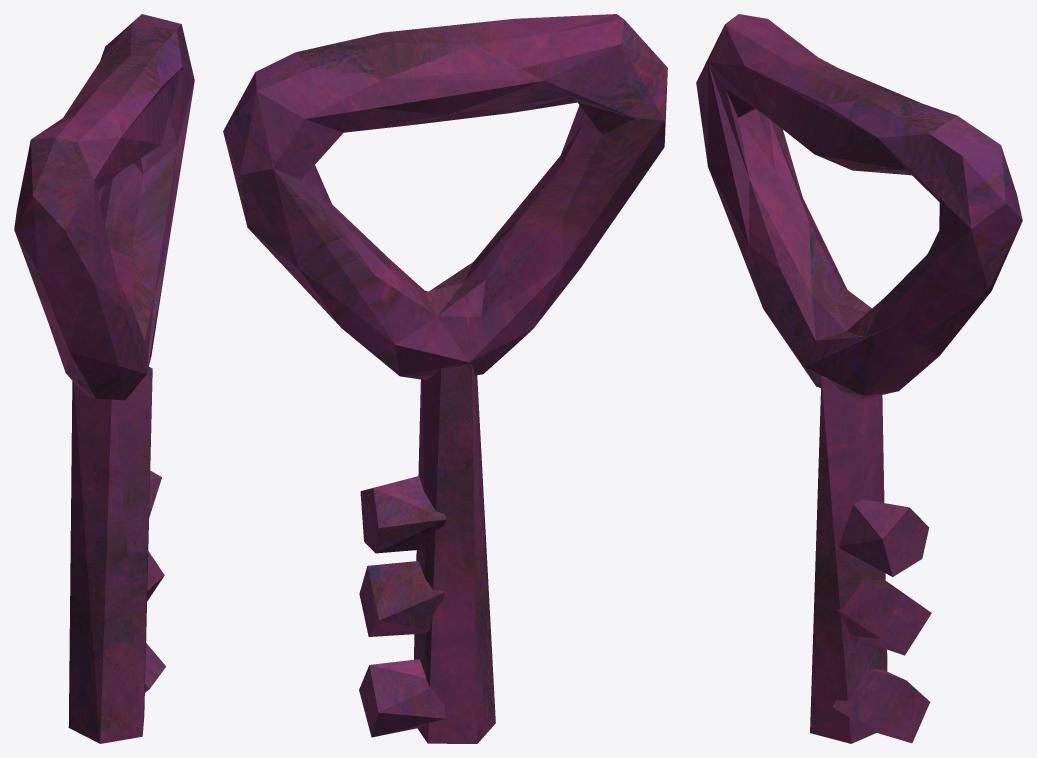
File: key3.glb
3 renders of one model, left to right at view 1: azimuth 30°, elevation 25°; view 2: azimuth 150°, elevation 25°; view 3: azimuth 270°, elevation 25°, orthographic. The views are drawn at different scales.
Visible parts, largest first — view 1: Key; view 2: Key; view 3: Key.
Part boxes in pixels (<box>): Key: <box>14,14,194,743</box>; Key: <box>223,14,667,743</box>; Key: <box>696,14,1022,743</box>.
Bounding box in the file's own units: 0.2118 × 0.4503 × 0.2022.
Materials: 1 (1 with a texture image).
